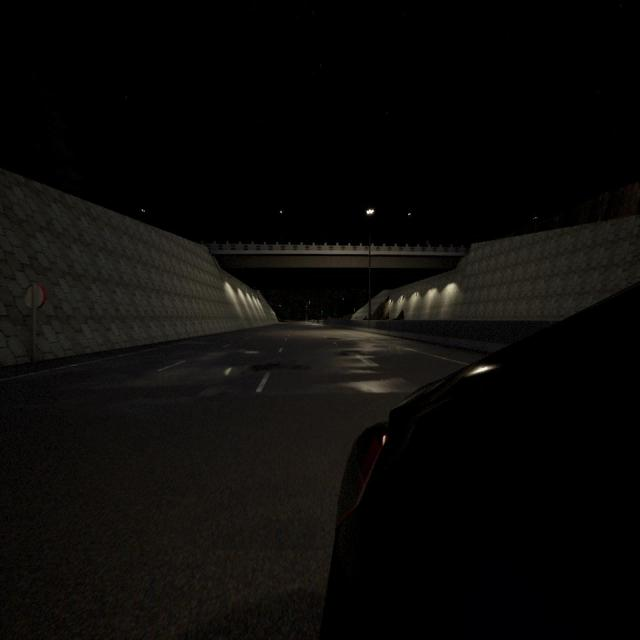Traffic_Signs: (24, 282, 46, 308)
Vehicle: (320, 283, 640, 637)
